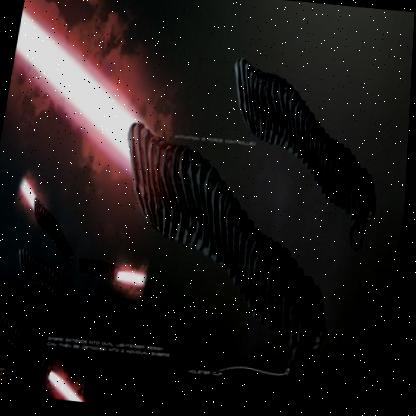sith_lightsaber: (11, 0, 354, 391), (0, 311, 96, 402), (13, 176, 79, 268)
